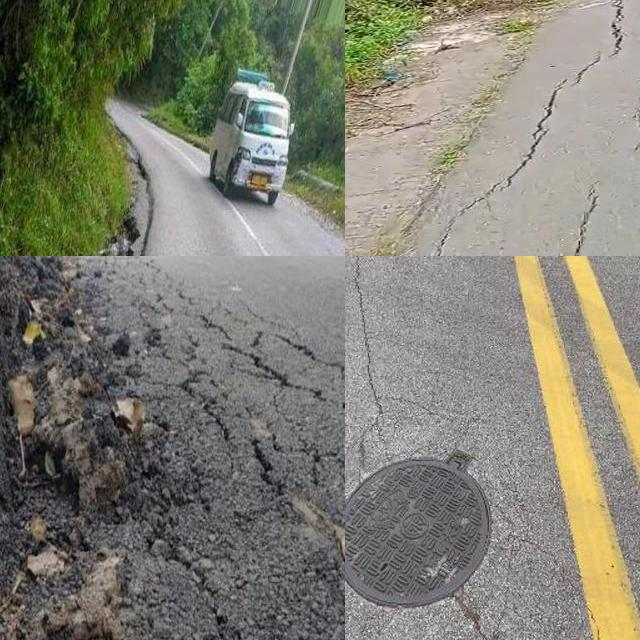Lubang: (345, 459, 490, 605)
Memanjang: (414, 0, 640, 256), (345, 256, 393, 475)
Pinggir: (0, 256, 205, 640), (55, 145, 162, 256)
